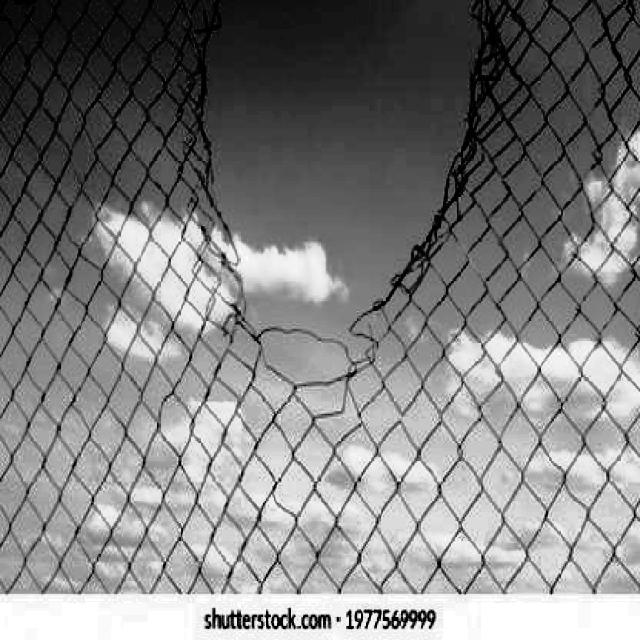anomaly-fence: (185, 0, 528, 405)
